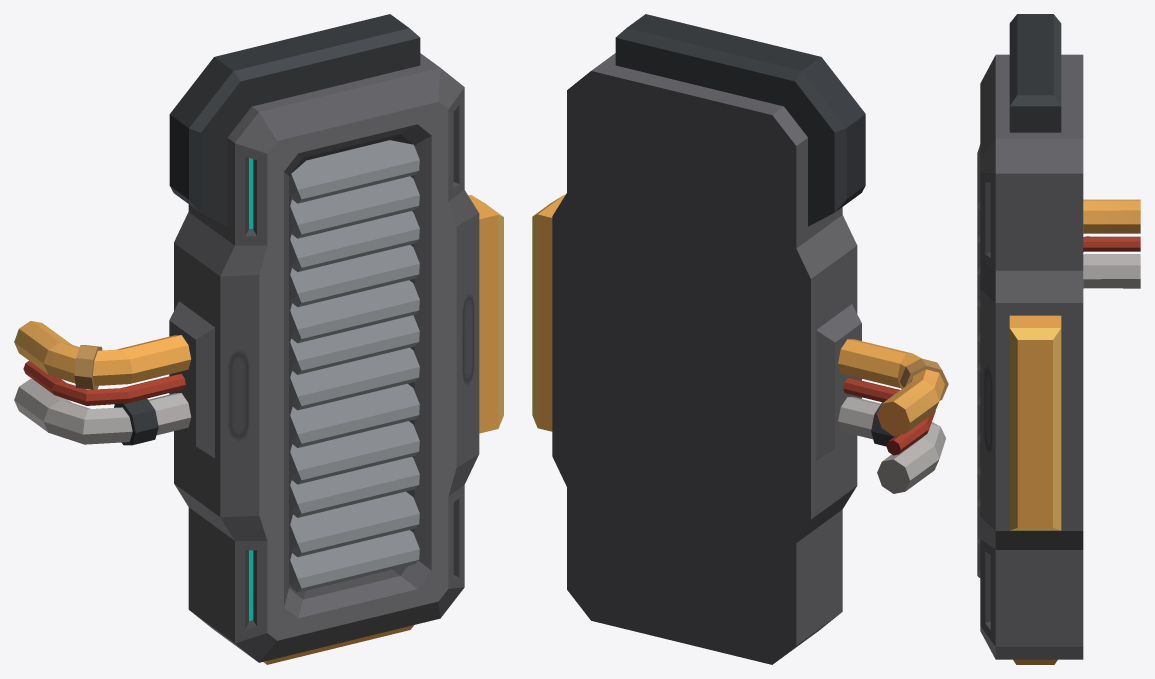
Rendered from SM_Prop_Greebles_01.fbx.
3 renders of one model, left to right at view 1: azimuth 30°, elevation 25°; view 2: azimuth 150°, elevation 25°; view 3: azimuth 270°, elevation 25°, orthographic. The views are drawn at different scales.
Visible parts, largest first — view 1: SM_Prop_Greebles_01; view 2: SM_Prop_Greebles_01; view 3: SM_Prop_Greebles_01.
Boxes of the visible parts, left/top/right/bottom form: SM_Prop_Greebles_01: left=14, top=14, right=503, bottom=664; SM_Prop_Greebles_01: left=532, top=14, right=948, bottom=664; SM_Prop_Greebles_01: left=977, top=14, right=1140, bottom=664.
Size of the model in its own units: 119 by 162 by 42.02.
